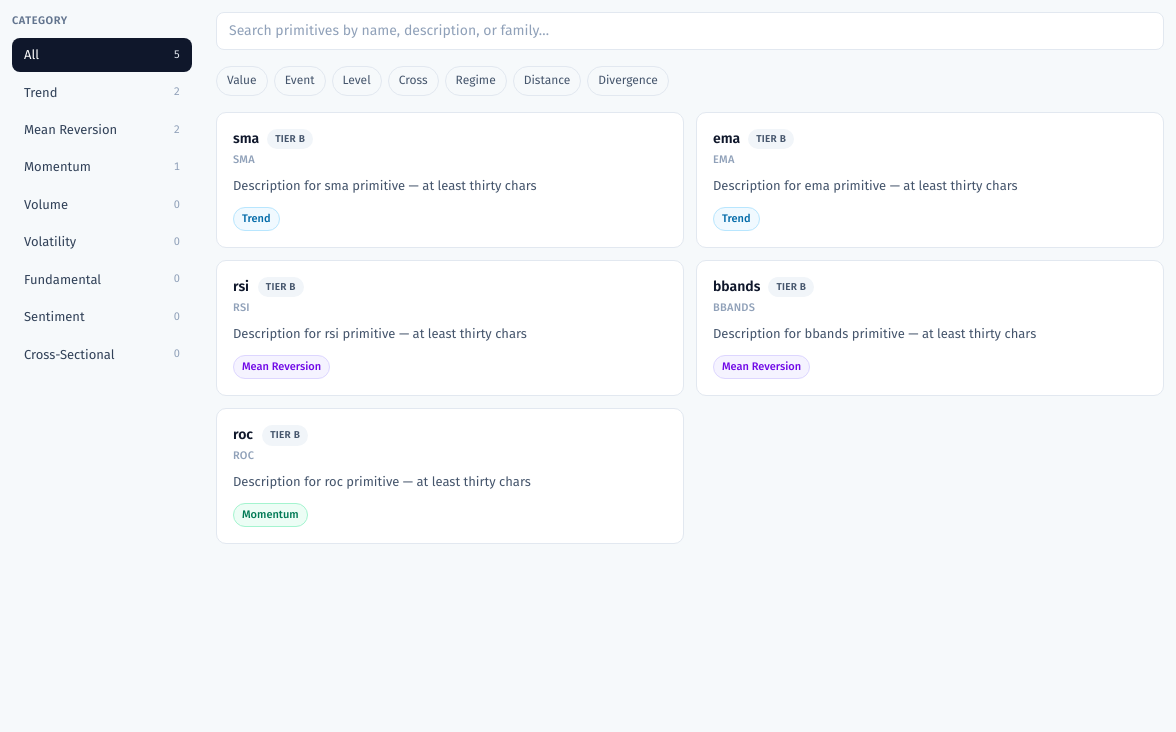
Scenario: SignalCatalogBrowser › filters by search query
Expected: the text "sma" is shown, [233, 129, 259, 149]
Type "RSI" into the search field with test id "catalog-search" at (690, 31), box [216, 12, 1164, 50]
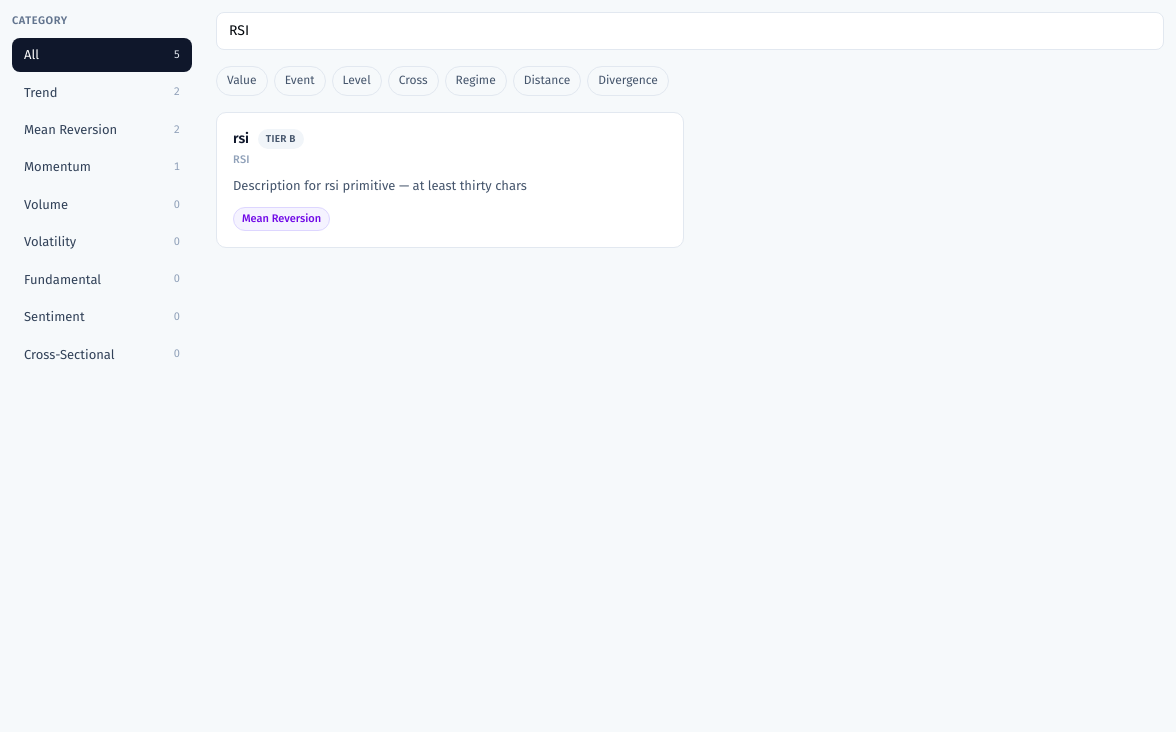
Expected: the text "rsi" is shown, [233, 129, 250, 149]
Expected: the button "sma" is gone
